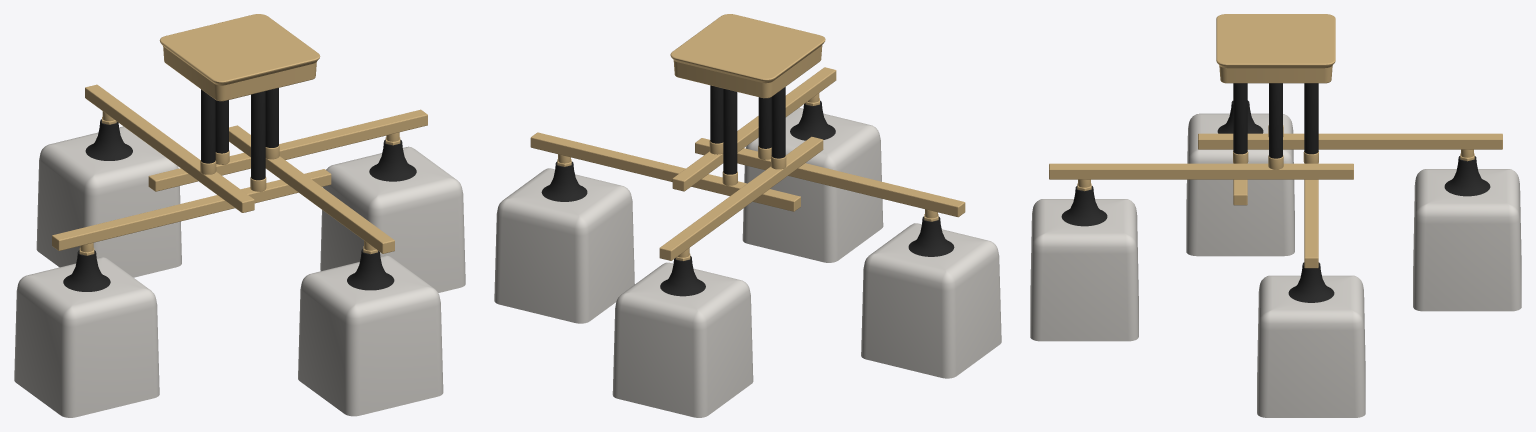
The picture shows the model from 3 angles, left to right: view 1: azimuth 30°, elevation 25°; view 2: azimuth 150°, elevation 25°; view 3: azimuth 270°, elevation 25°; orthographic projection. The views are drawn at different scales.
Parts seen in each view (by area): view 1: glass, brass, black; view 2: glass, brass, black; view 3: glass, brass, black.
Part boxes in pixels (x1,y1,x2,y2): glass: (14, 126, 465, 417); brass: (52, 14, 427, 255); black: (63, 88, 416, 291); glass: (494, 107, 1001, 417); brass: (530, 14, 965, 260); black: (541, 85, 954, 296); glass: (1030, 113, 1521, 417); brass: (1049, 14, 1502, 268); black: (1061, 83, 1490, 302).
Size of the model in its own units: 0.416 by 0.2571 by 0.416.
